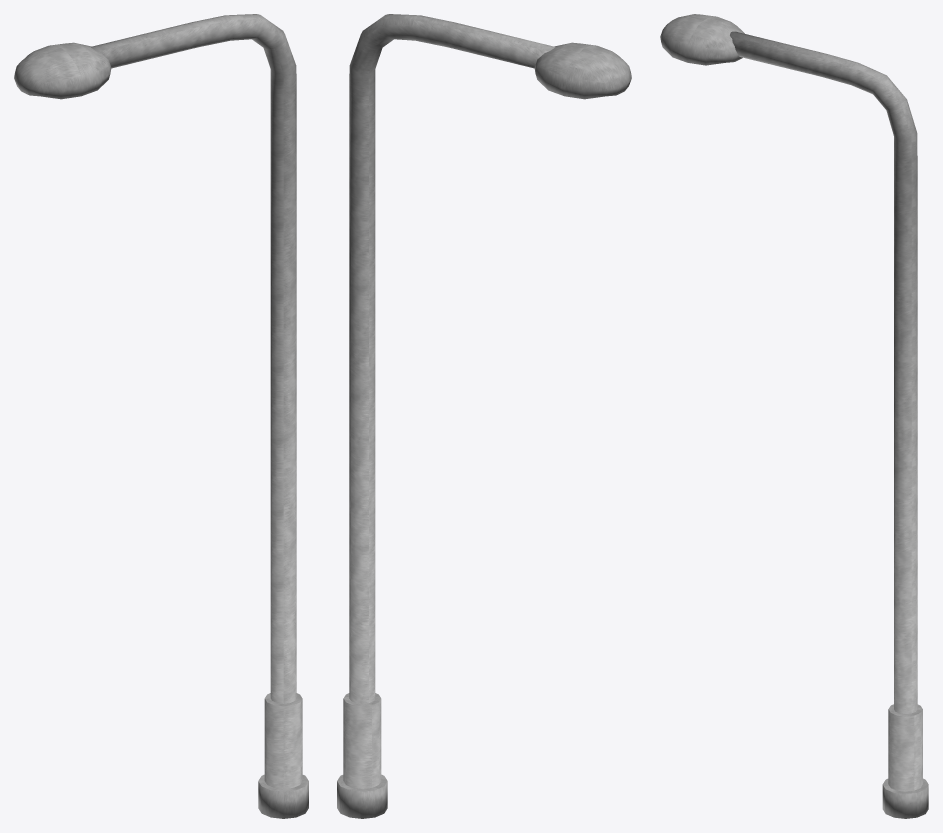
Rendered from lamp.fbx.
3 views of the same model, side by side, from view 1: azimuth 30°, elevation 25°; view 2: azimuth 150°, elevation 25°; view 3: azimuth 330°, elevation 25° (orthographic). The views are drawn at different scales.
Visible parts, largest first — view 1: lamp; view 2: lamp; view 3: lamp.
Boxes of the visible parts, left/top/right/bottom form: lamp: left=14, top=14, right=308, bottom=818; lamp: left=337, top=14, right=631, bottom=818; lamp: left=660, top=14, right=928, bottom=818.
Bounding box in the file's own units: 297 × 803 × 74.69.
